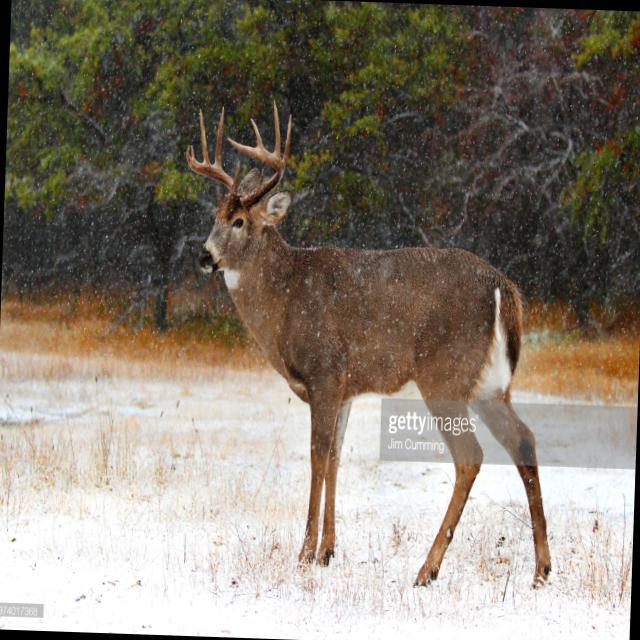E1: (190, 144, 196, 159)
L-F: (226, 137, 283, 209)
L-G1: (257, 168, 263, 185)
L-G2: (281, 113, 291, 172)
L-G3: (273, 99, 280, 158)
L-G4: (250, 117, 266, 149)
R-G1: (233, 160, 240, 188)
R-G2: (213, 106, 224, 168)
R-G3: (199, 108, 210, 163)
